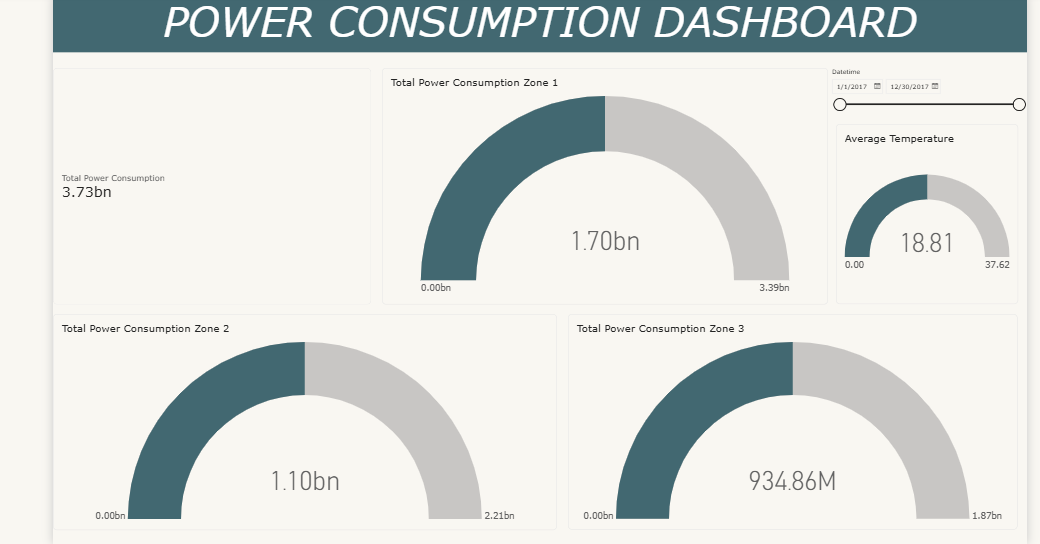

What the dashboard file says about the page in this screenshot:
{"tool":"powerbi","page":{"name":"Page 1","canvas":[1920,1080],"ordinal":0},"visuals":[{"type":"textbox","box":[0,0,1920,111.5],"z":0},{"type":"gauge","fields":{"Y":["Sum(powerconsumption.PowerConsumption_Zone1)"]},"box":[647.6,141.1,879.4,466.1],"z":1000},{"type":"gauge","fields":{"Y":["Sum(powerconsumption.PowerConsumption_Zone2)"]},"box":[0,627.4,992.8,425.8],"z":2000},{"type":"gauge","fields":{"Y":["Sum(powerconsumption.PowerConsumption_Zone3)"]},"box":[1015.7,627.6,885.7,425.3],"z":3000},{"type":"slicer","fields":{"Values":["powerconsumption.Datetime"]},"box":[1526.9,141.1,393.1,131],"z":4000},{"type":"cardVisual","fields":{"Data":["powerconsumption.Total Power Consumption"]},"box":[0,141.1,627.4,466.1],"z":5000},{"type":"gauge","fields":{"Y":["Avg(powerconsumption.Temperature)"]},"box":[1542.2,251.9,359.2,355.1],"z":6000}]}

Visuals, with their boxes on the page's 1920x1080 design canvas (x1, y1, x2, y2). These are canvas units, not pixel positions in the 1040x544 screenshot, which may show the page scaled, cropped or inside an application window:
textbox: 0:0:1920:112
gauge - Sum(powerconsumption.PowerConsumption_Zone1): 648:141:1527:607
gauge - Sum(powerconsumption.PowerConsumption_Zone2): 0:627:993:1053
gauge - Sum(powerconsumption.PowerConsumption_Zone3): 1016:628:1901:1053
slicer - powerconsumption.Datetime: 1527:141:1920:272
cardVisual - powerconsumption.Total Power Consumption: 0:141:627:607
gauge - Avg(powerconsumption.Temperature): 1542:252:1901:607
